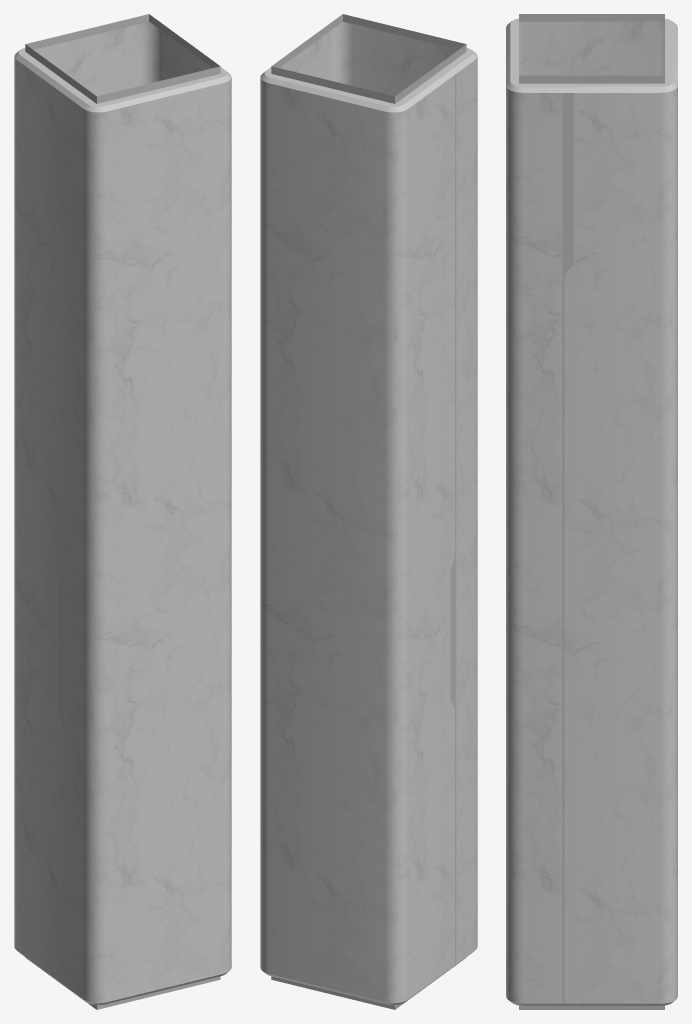
Rendered from M_W_Pillar_003.fbx.
The picture shows the model from 3 angles, left to right: view 1: azimuth 30°, elevation 25°; view 2: azimuth 150°, elevation 25°; view 3: azimuth 270°, elevation 25°; orthographic projection. The views are drawn at different scales.
Visible parts, largest first — view 1: M_W_Pillar_003; view 2: M_W_Pillar_003; view 3: M_W_Pillar_003.
Boxes of the visible parts, x1,y1,x2,y2 form: M_W_Pillar_003: (14, 14, 231, 1009); M_W_Pillar_003: (260, 14, 477, 1009); M_W_Pillar_003: (506, 14, 677, 1009).
Bounding box in the file's own units: 2 × 12 × 2.
